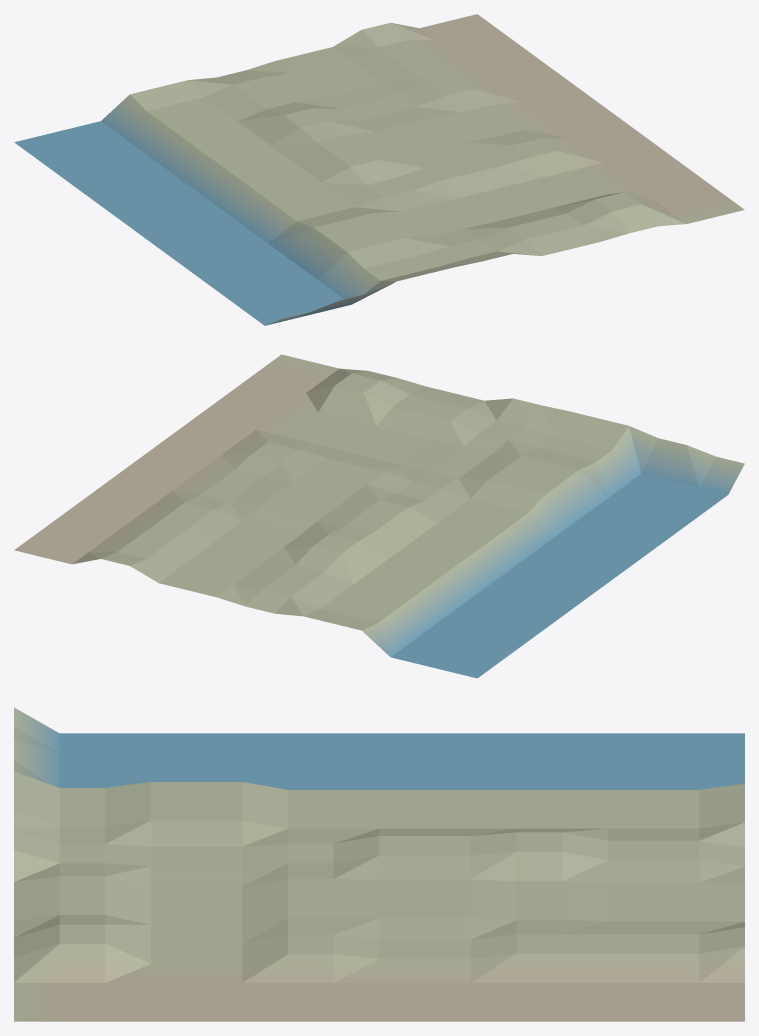
The picture shows the model from 3 angles, top to bottom: view 1: azimuth 30°, elevation 25°; view 2: azimuth 150°, elevation 25°; view 3: azimuth 270°, elevation 25°; orthographic projection. The views are drawn at different scales.
Bounding box in the file's own units: 32 × 1.96 × 32.
